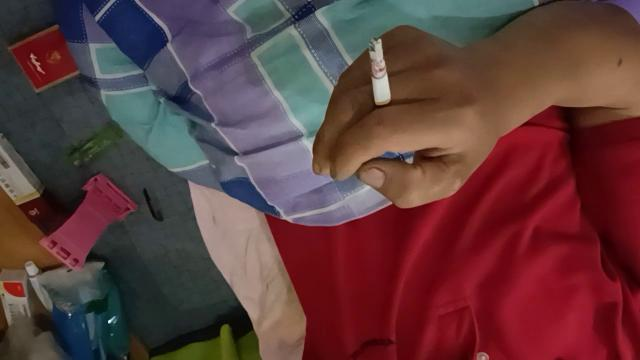Cigarette: (368, 35, 394, 123)
